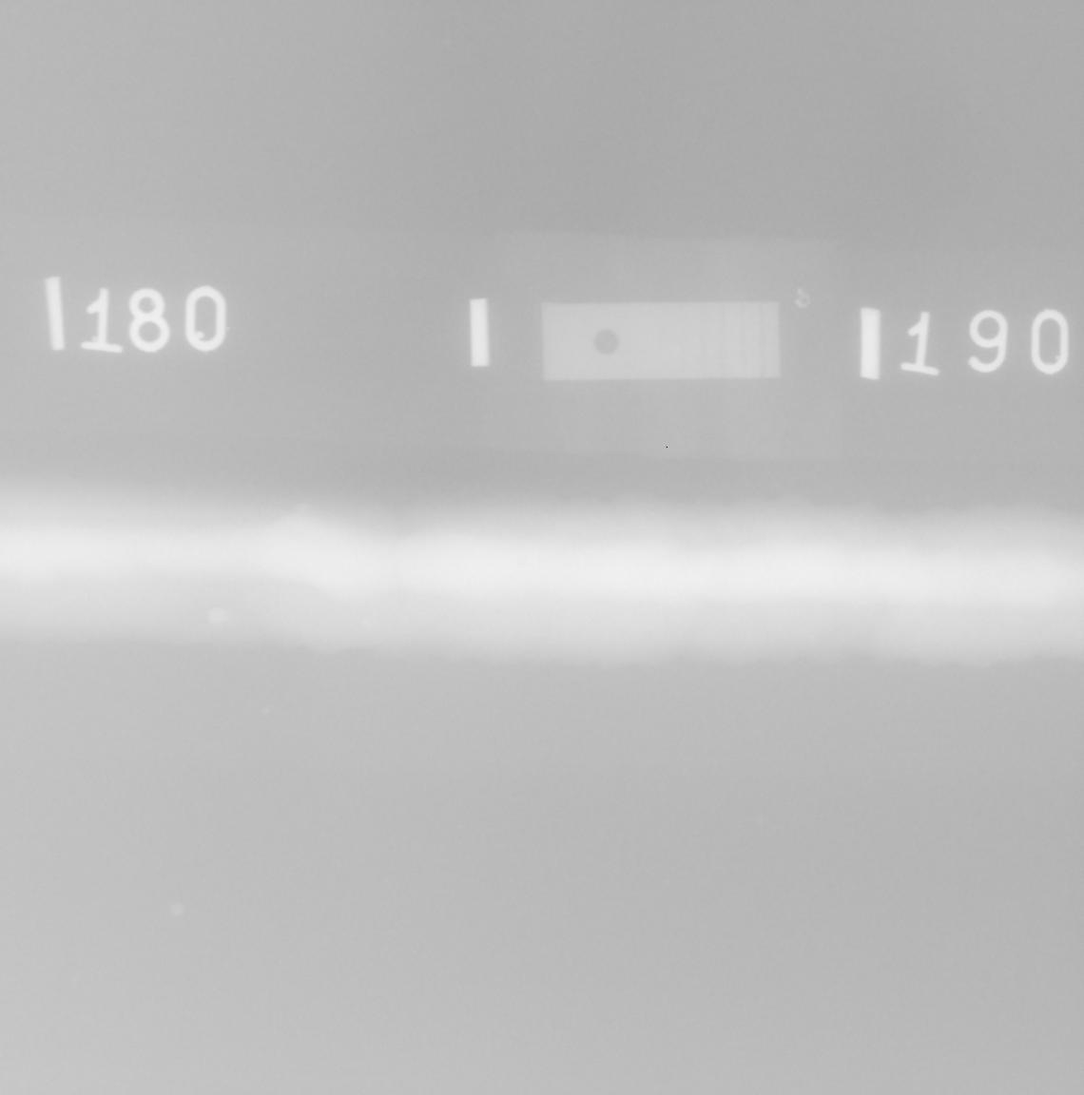Pore/Porosity: (519, 561, 526, 566), (496, 610, 499, 614)
Reference Standard 1: (542, 302, 780, 381)
